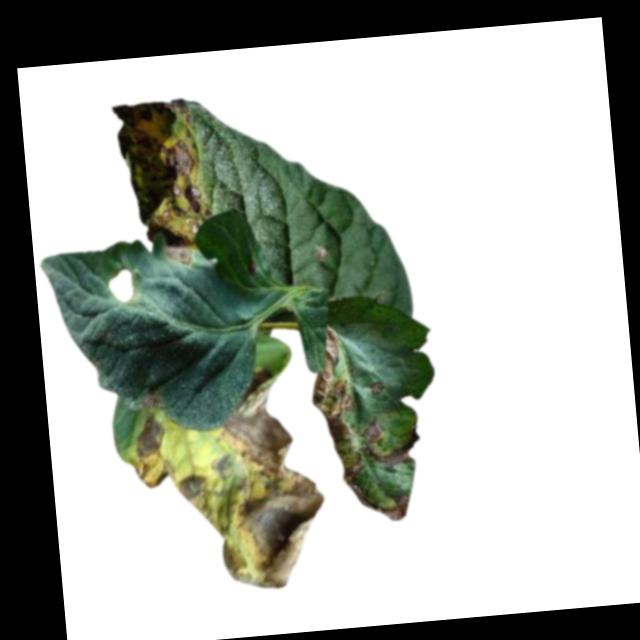Early_blight: (169, 360, 332, 595), (112, 95, 214, 269), (306, 324, 354, 446), (123, 409, 175, 489), (361, 435, 422, 465), (341, 453, 368, 509), (369, 493, 412, 525), (358, 417, 385, 445), (137, 386, 166, 411), (368, 378, 384, 397)
